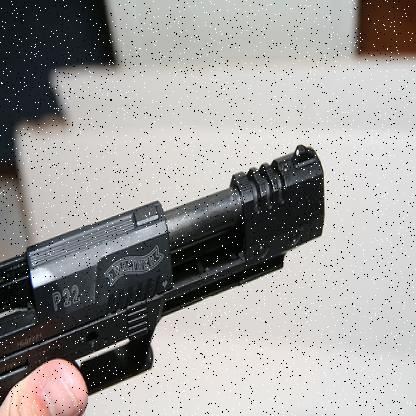pistol: (1, 144, 325, 409)
